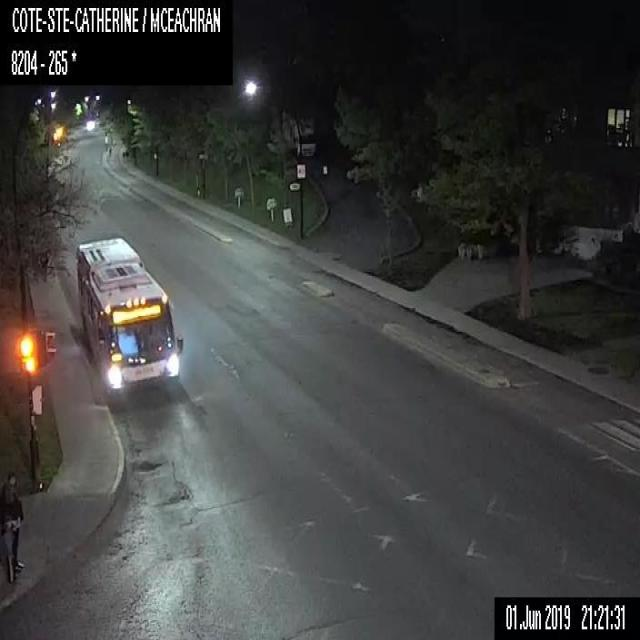bus: (75, 236, 182, 388)
pedestrian: (0, 468, 25, 587)
vehicle: (281, 106, 316, 156)
